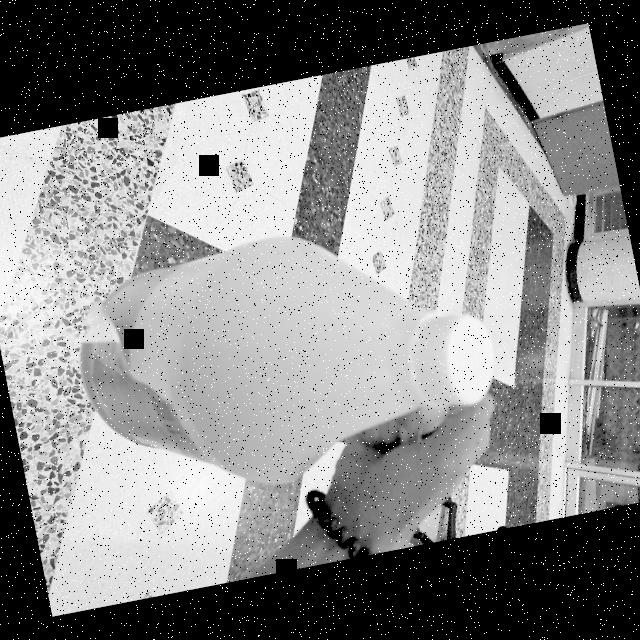chemical_plastic_gallon: (57, 194, 514, 523)
